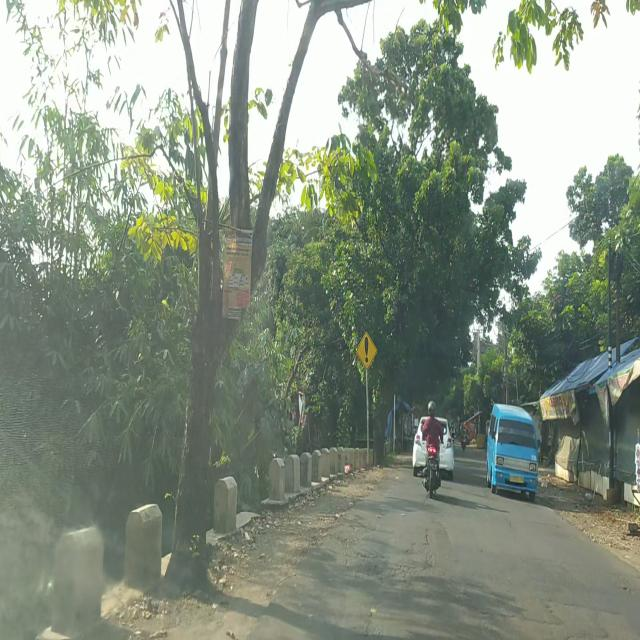Drain Hole: (336, 528, 439, 591)
